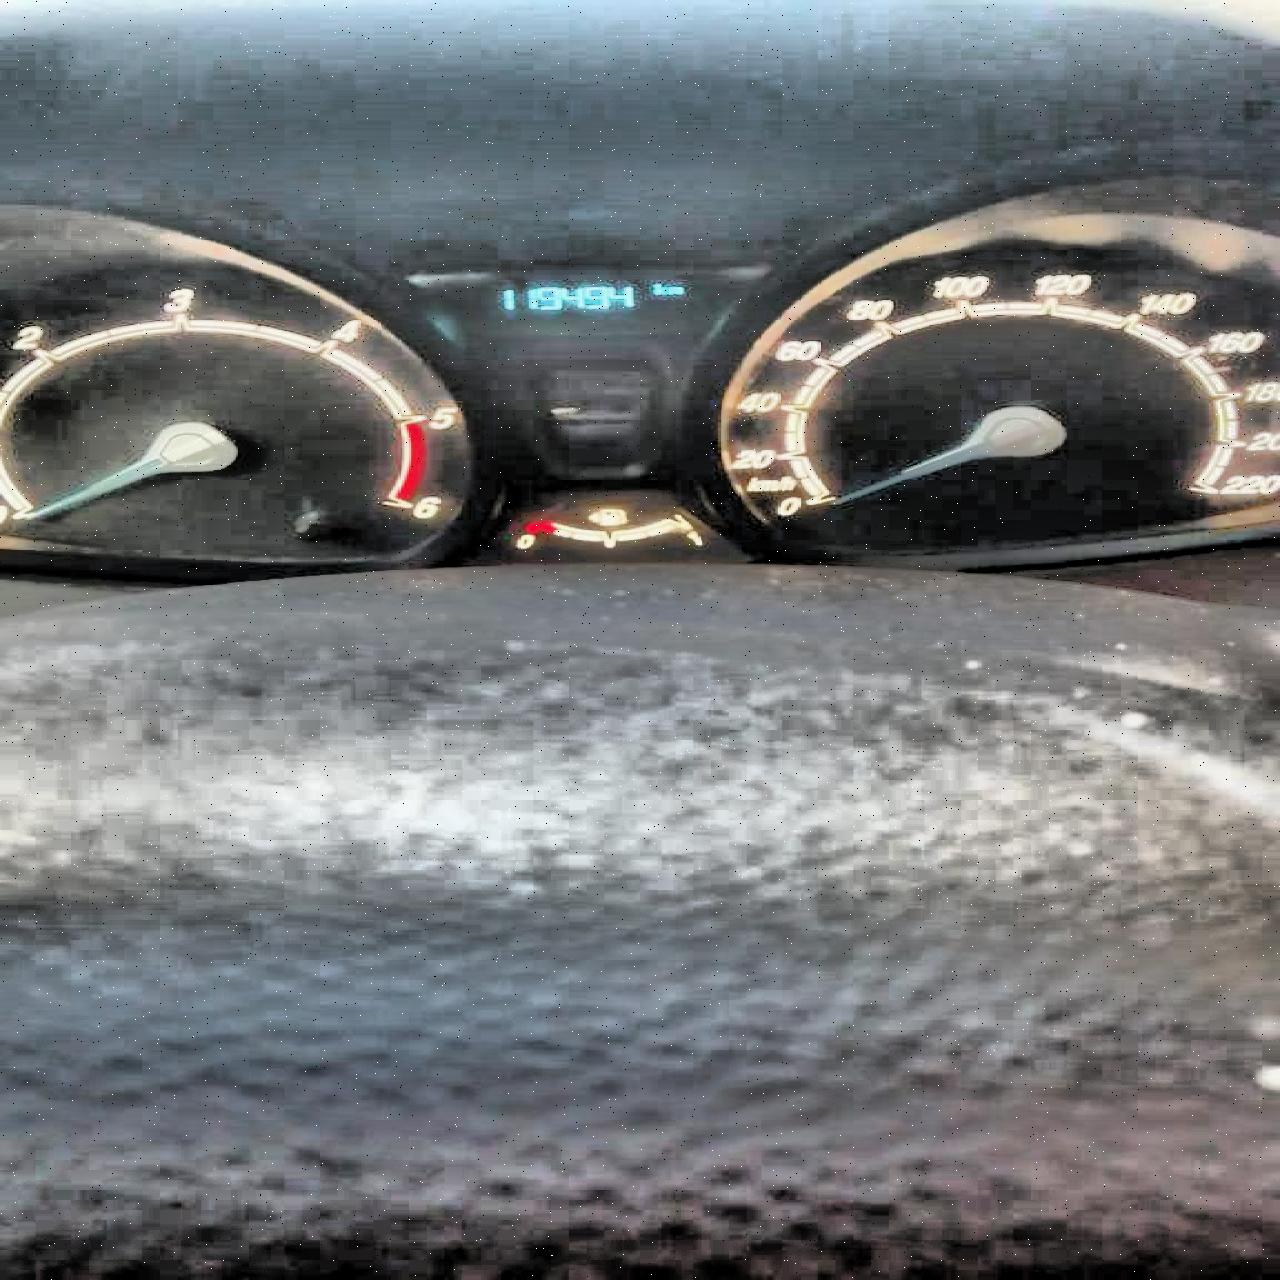1: (497, 287, 516, 311), (523, 287, 536, 308)
4: (607, 286, 633, 306), (560, 287, 583, 307)
9: (583, 285, 607, 309), (536, 286, 558, 309)
X: (652, 281, 667, 295), (667, 285, 682, 294)
odometer: (429, 272, 729, 334)
